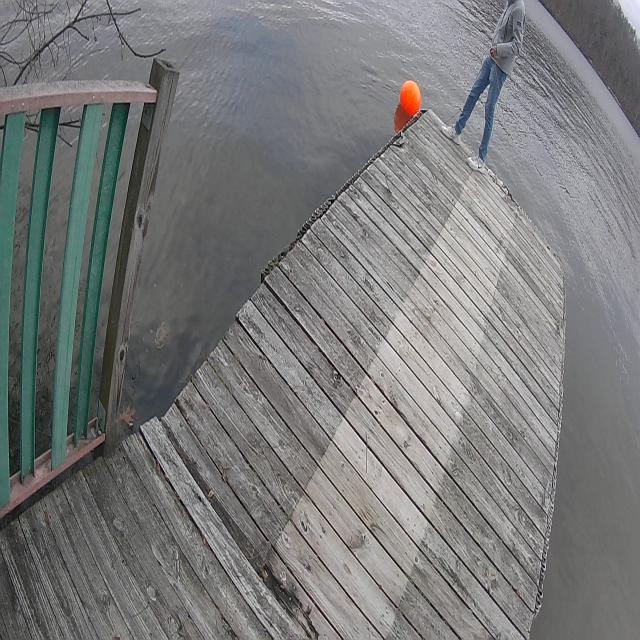Buoy: (397, 73, 425, 122)
